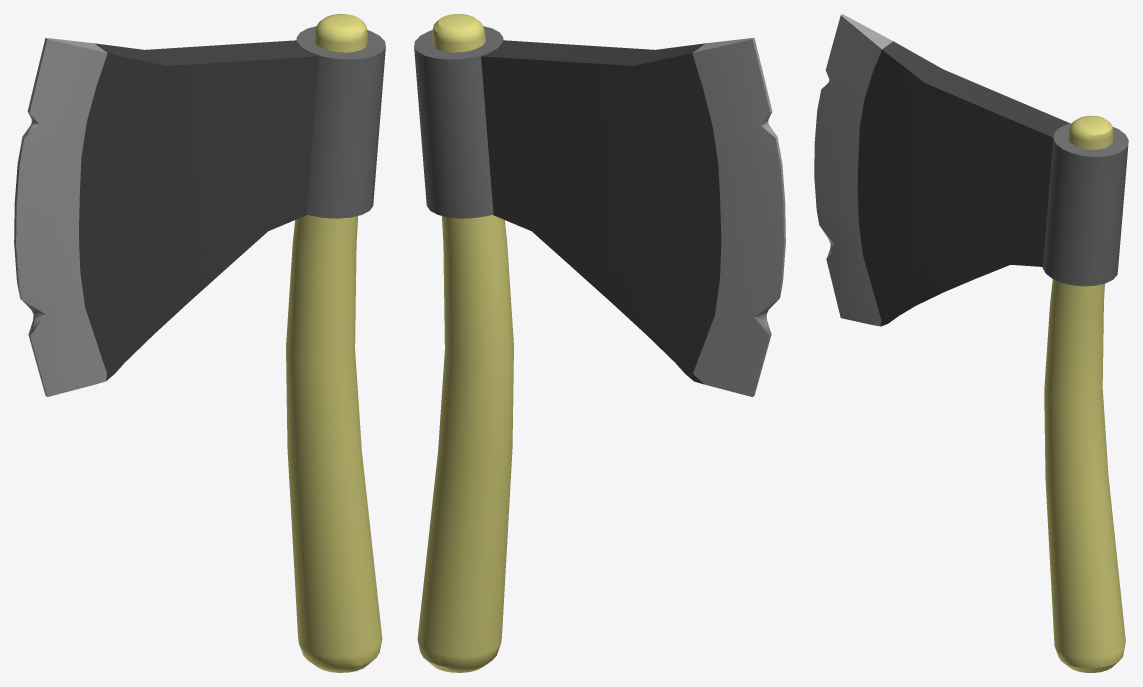
File: Axe.fbx
The picture shows the model from 3 angles, left to right: view 1: azimuth 30°, elevation 25°; view 2: azimuth 150°, elevation 25°; view 3: azimuth 330°, elevation 25°; orthographic projection. The views are drawn at different scales.
Parts seen in each view (by area): view 1: pCube1, pCylinder2, pCylinder3; view 2: pCube1, pCylinder2, pCylinder3; view 3: pCube1, pCylinder2, pCylinder3.
Boxes of the visible parts, <box> form: pCube1: <box>14,37,318,396</box>; pCylinder2: <box>286,14,382,672</box>; pCylinder3: <box>296,26,385,218</box>; pCube1: <box>481,37,785,396</box>; pCylinder2: <box>417,14,513,672</box>; pCylinder3: <box>414,26,503,218</box>; pCube1: <box>814,14,1070,326</box>; pCylinder2: <box>1044,115,1125,672</box>; pCylinder3: <box>1042,123,1128,286</box>.
Bounding box in the file's own units: 72.26 × 132 × 15.4.
